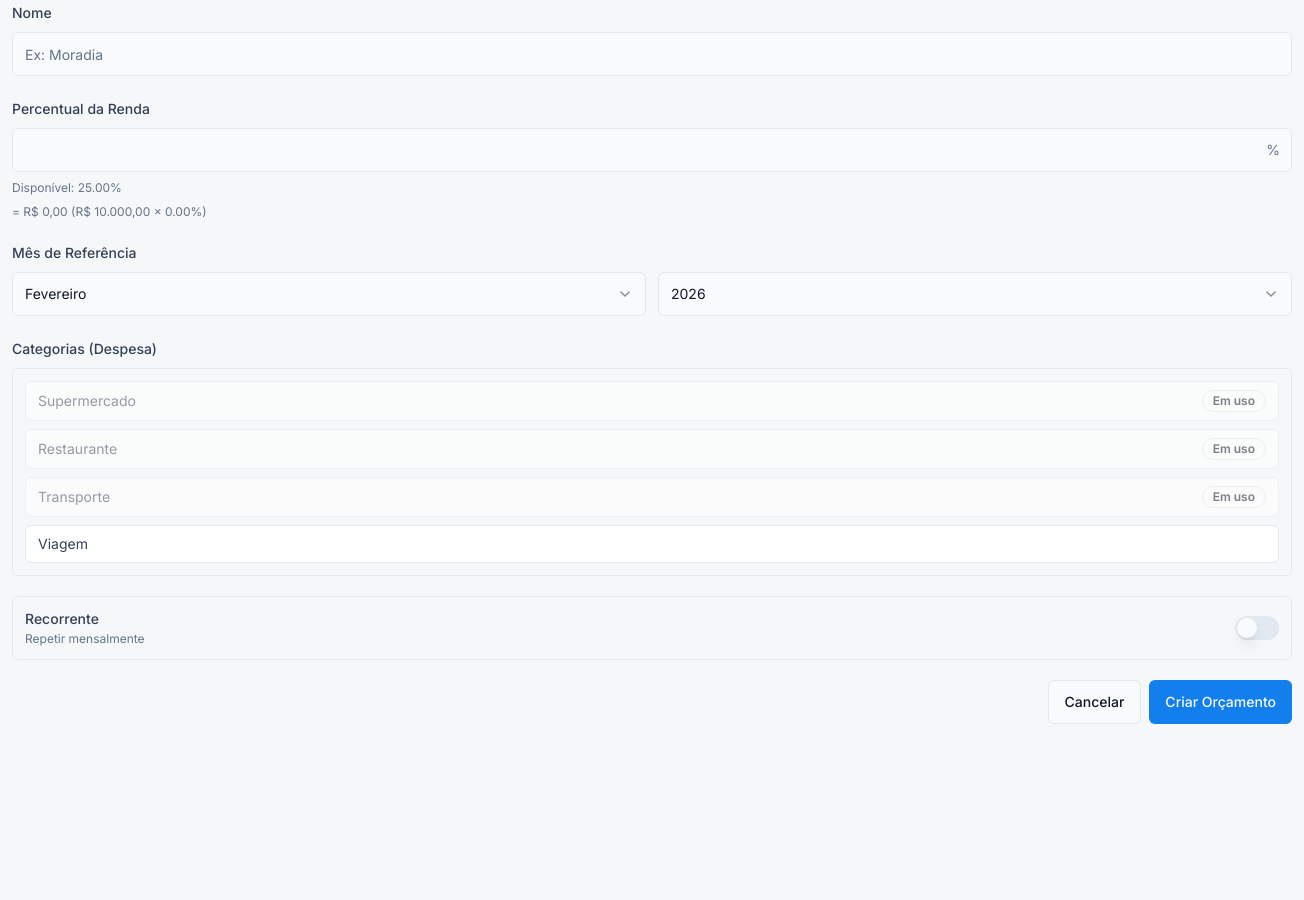
Test case: BudgetForm › should show validation errors when no categories selected
The image size is (1304, 900).
Type "Orçamento Teste" into the field labelled "Nome".
click(652, 54); type("Orçamento Teste")  # box [12,32,1292,76]
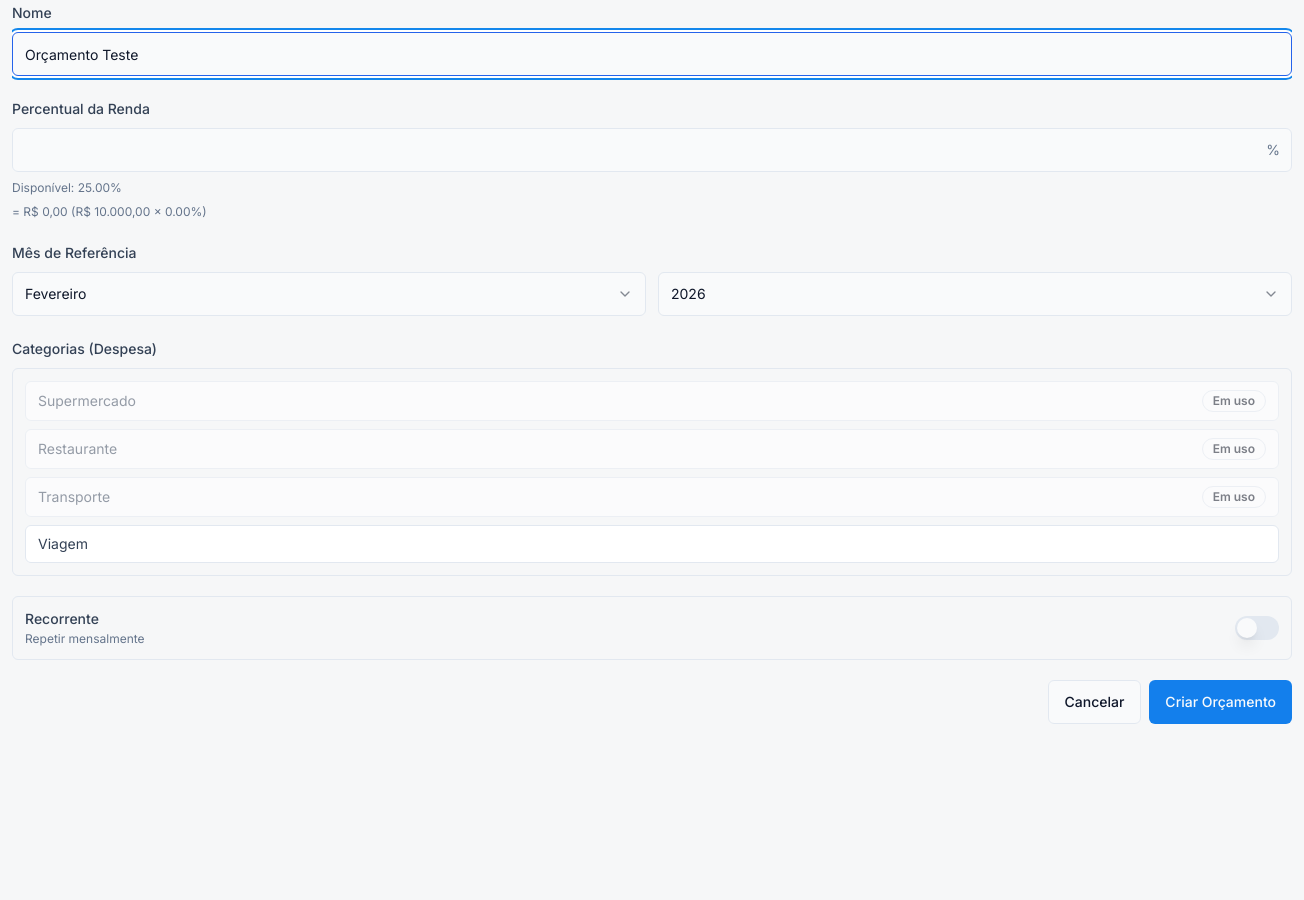
Type "5" into the number field labelled "Percentual da Renda".
click(652, 150); type("5")  # box [12,128,1292,172]
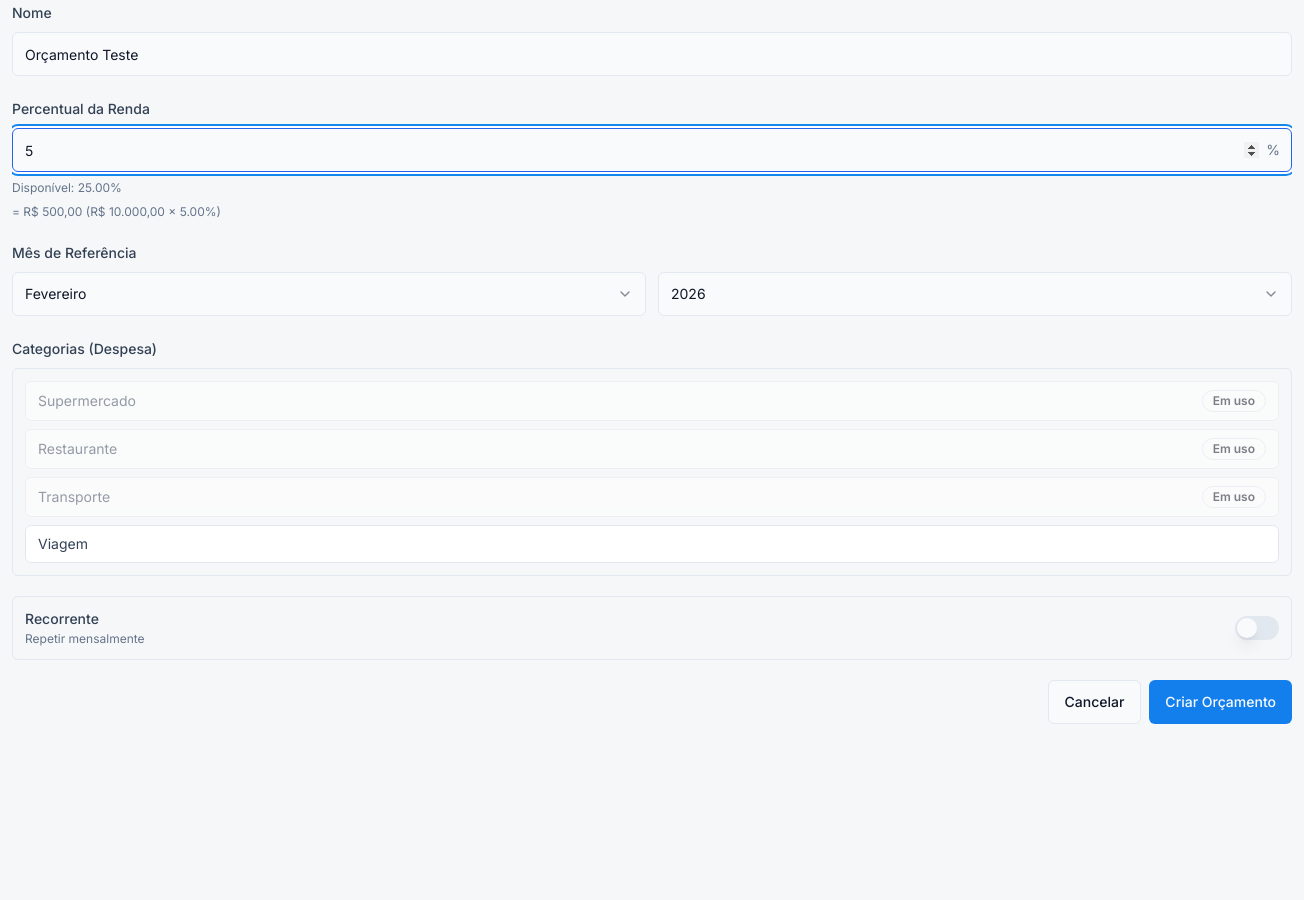
Click the button "Criar Orçamento".
click(1221, 702)  # box [1149,680,1292,724]
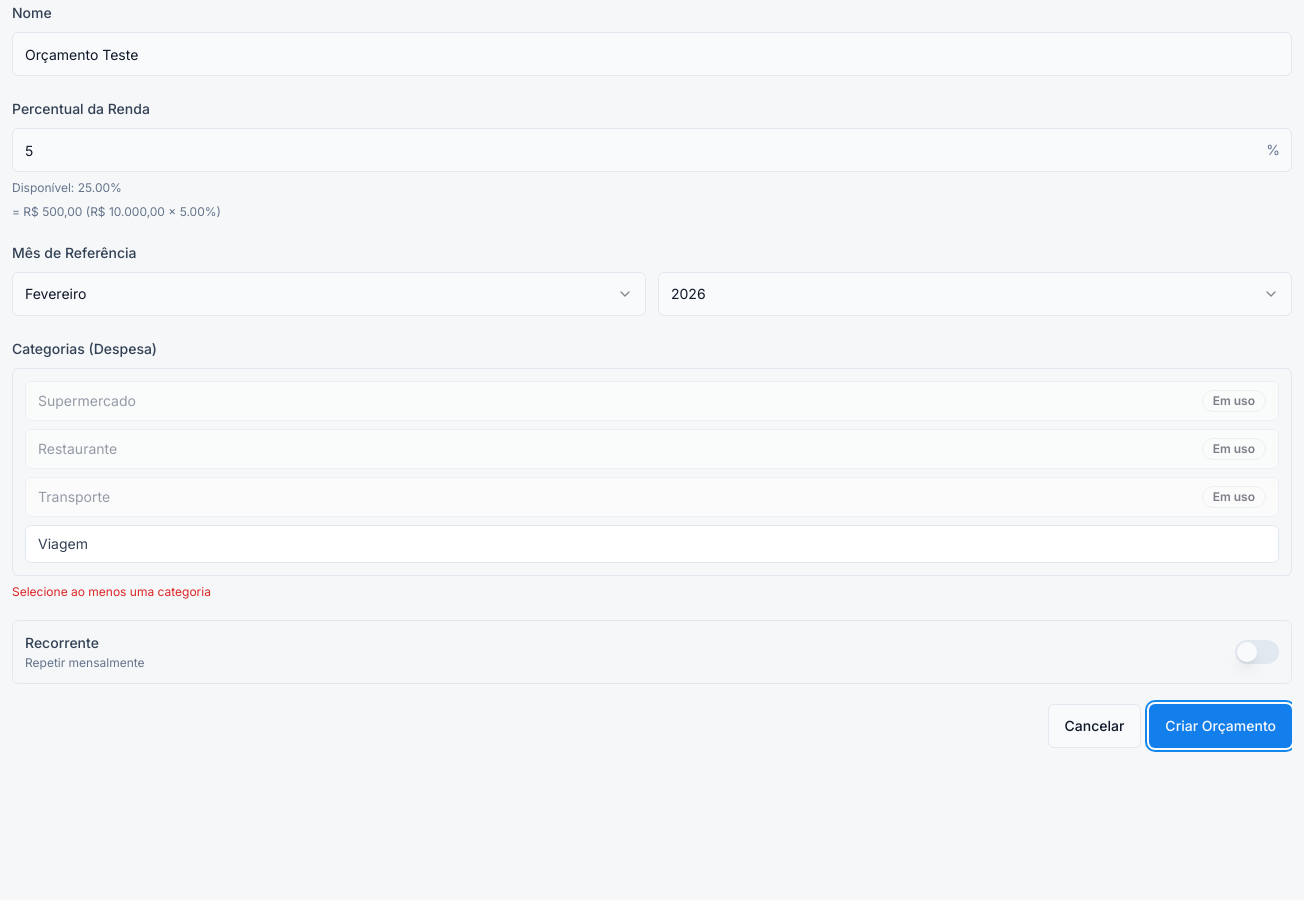
Expected: the text "Selecione ao menos uma categoria" is shown, [12,584,211,599]
